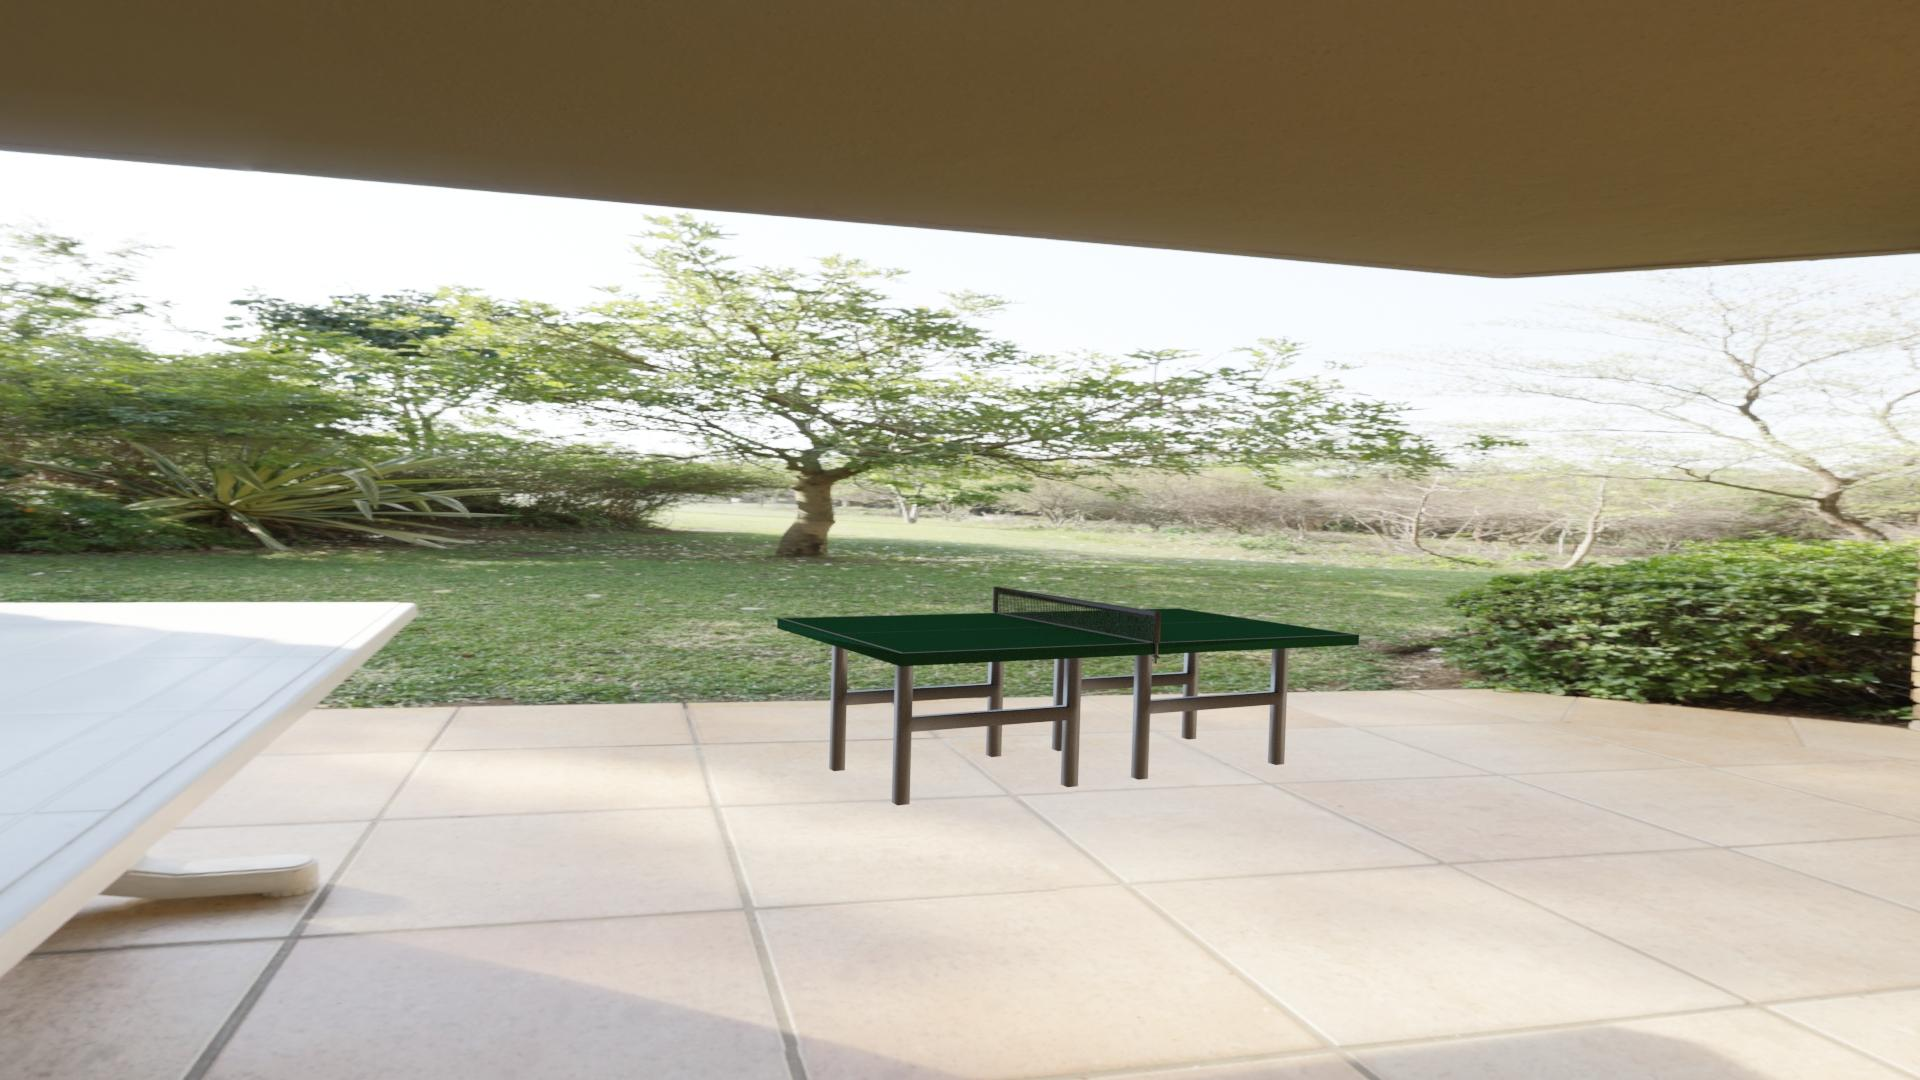table: (782, 608, 1354, 653)
